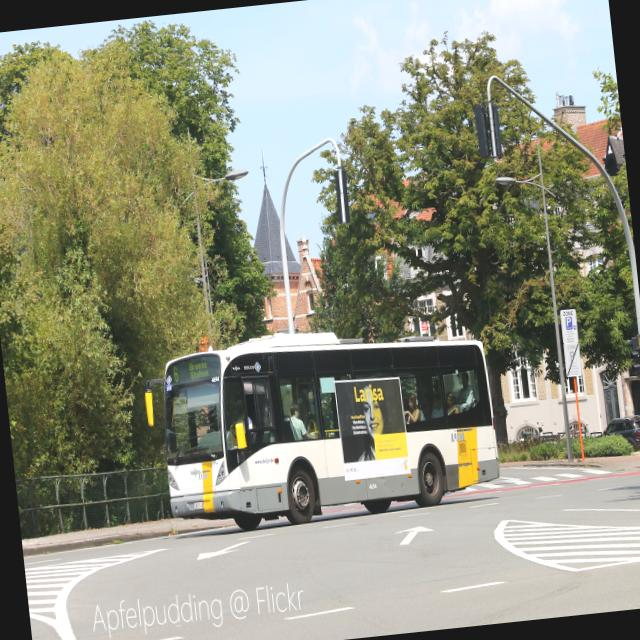bus-number: (172, 365, 179, 382)
